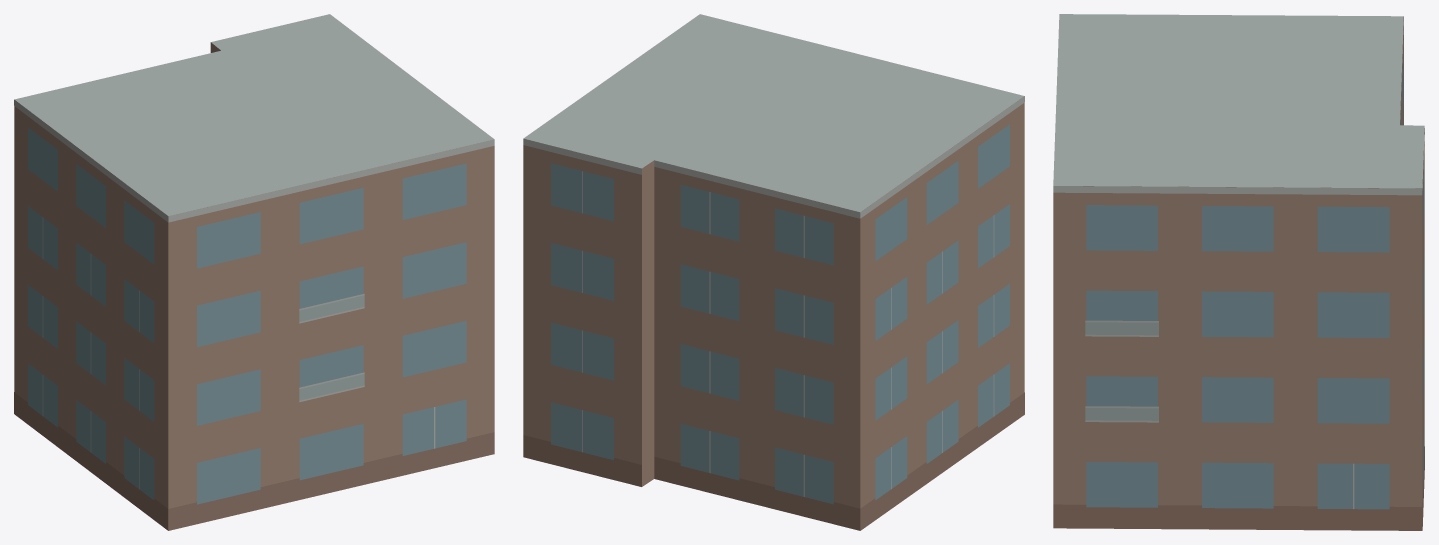
File: survey-upis-32495862.glb
3 views of the same model, side by side, from view 1: azimuth 30°, elevation 25°; view 2: azimuth 150°, elevation 25°; view 3: azimuth 270°, elevation 25° (orthographic). The views are drawn at different scales.
Parts seen in each view (by area): view 1: survey-upis-32495862.tmp; view 2: survey-upis-32495862.tmp; view 3: survey-upis-32495862.tmp.
Part boxes in pixels (<box>): survey-upis-32495862.tmp: <box>14,14,494,530</box>; survey-upis-32495862.tmp: <box>523,14,1024,530</box>; survey-upis-32495862.tmp: <box>1053,14,1424,530</box>.
Size of the model in its own units: 13.23 by 12.1 by 11.91.
